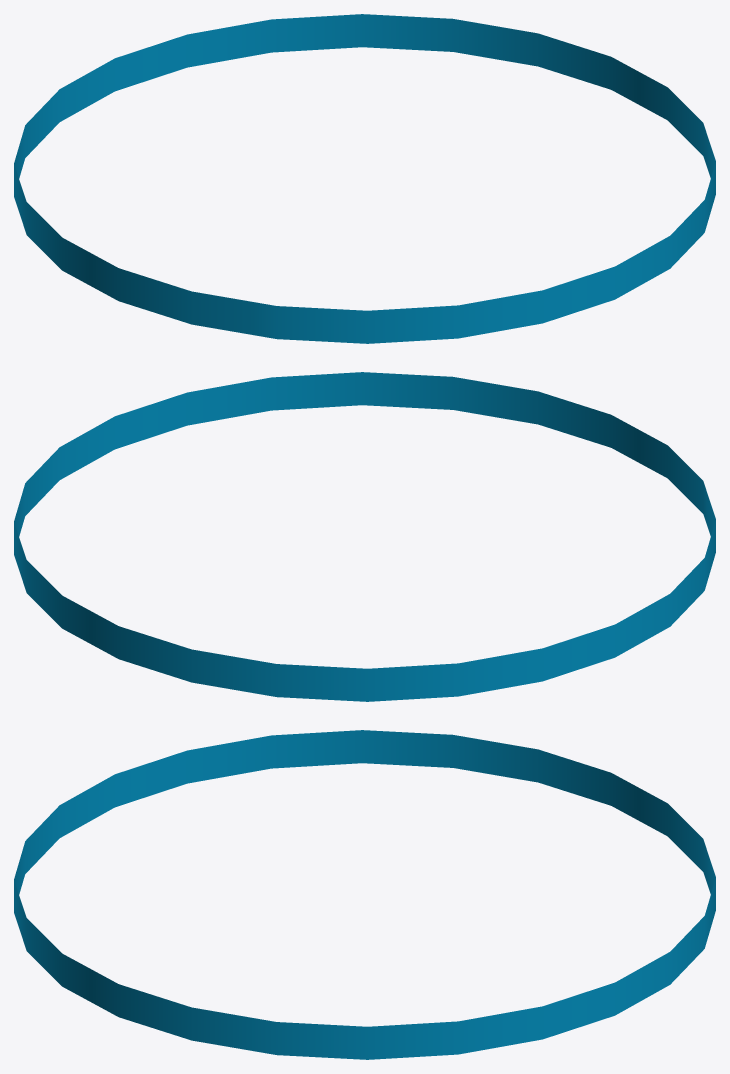
Rendered from original-43.obj.
The picture shows the model from 3 angles, top to bottom: view 1: azimuth 30°, elevation 25°; view 2: azimuth 150°, elevation 25°; view 3: azimuth 270°, elevation 25°; orthographic projection.
Visible parts, largest first — view 1: #ID201; view 2: #ID201; view 3: #ID201.
Boxes of the visible parts, bbox=[...] form: #ID201: bbox=[14, 14, 715, 343]; #ID201: bbox=[14, 372, 715, 701]; #ID201: bbox=[14, 730, 715, 1059].
Size of the model in its own units: 0.0829 by 0.00432 by 0.0829.
